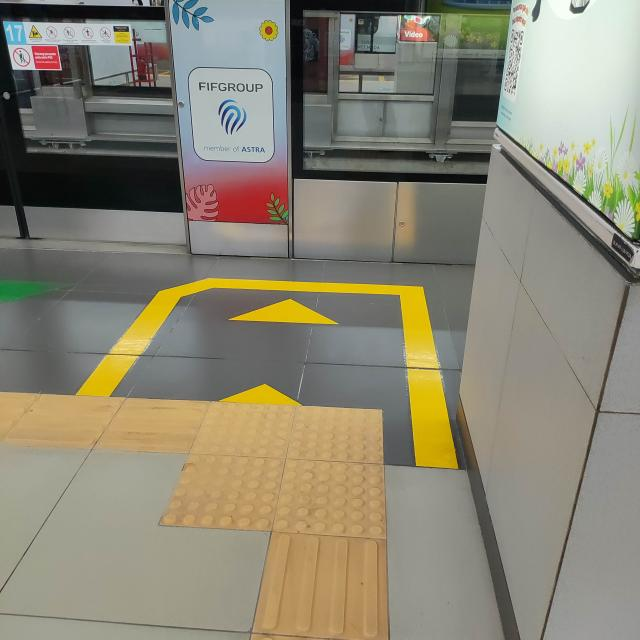kiri: (54, 358, 448, 583)
